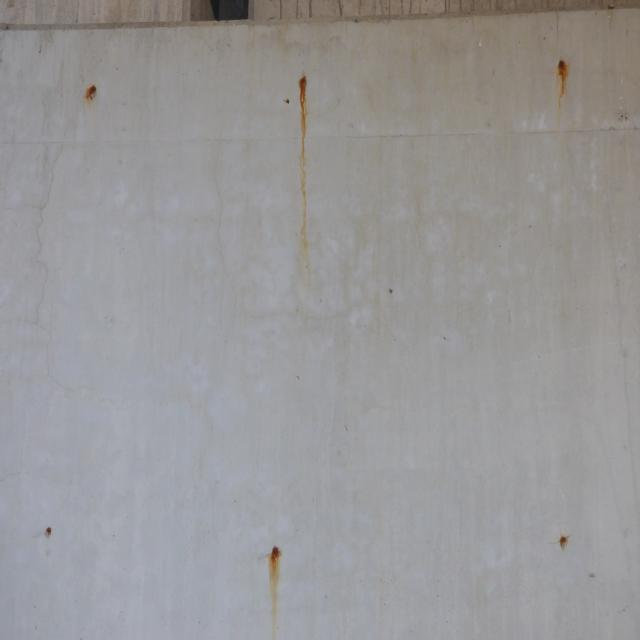corrosion: (291, 67, 320, 284), (260, 541, 296, 631), (551, 52, 575, 113), (75, 59, 100, 110), (553, 525, 571, 558), (42, 519, 58, 541)
